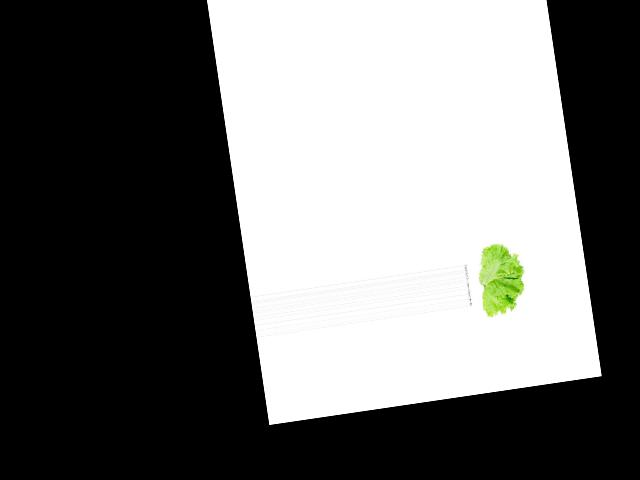lettuce: (464, 239, 530, 319)
